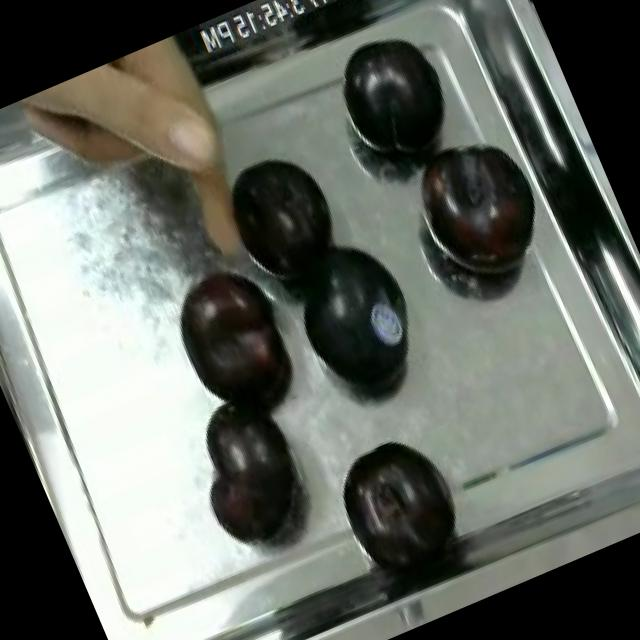Fruit: (264, 212, 445, 418), (166, 372, 328, 561), (397, 117, 564, 300), (154, 246, 312, 429), (321, 14, 472, 181), (208, 134, 358, 292), (322, 422, 468, 574)
